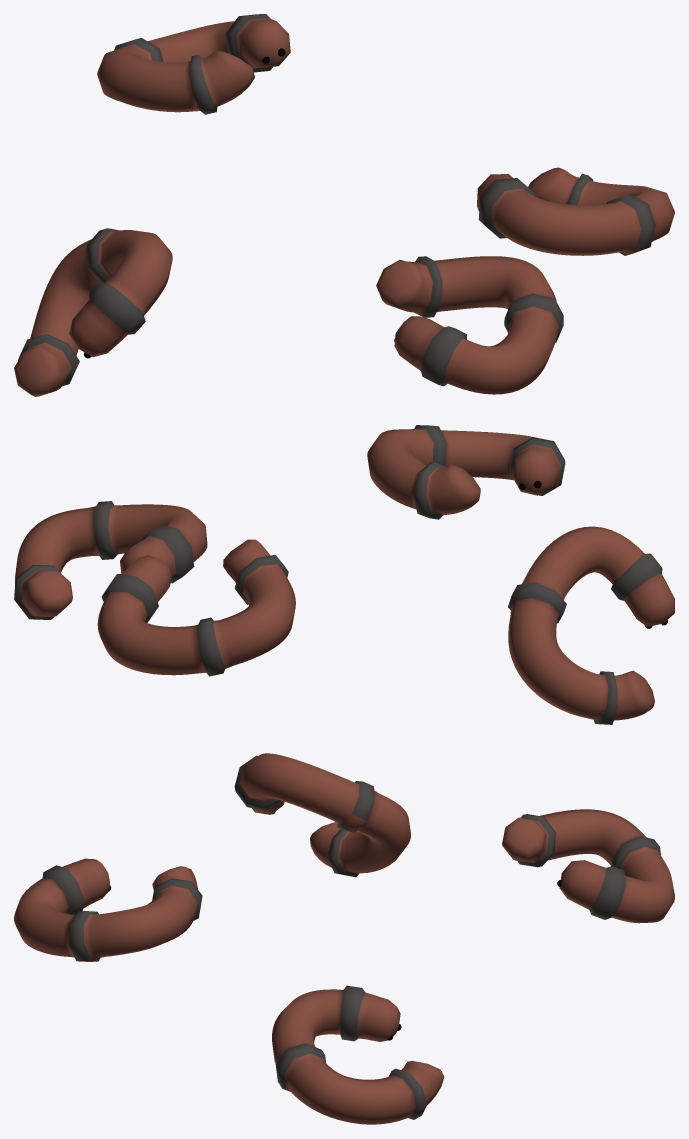
Rendered from Worms.fbx.
The picture shows the model from 3 angles, top to bottom: view 1: azimuth 30°, elevation 25°; view 2: azimuth 150°, elevation 25°; view 3: azimuth 270°, elevation 25°; orthographic projection. The views are drawn at different scales.
Visible parts, largest first — view 1: Worms; view 2: Worms; view 3: Worms.
Part boxes in pixels (bbox=[...]): Worms: bbox=[14, 14, 674, 396]; Worms: bbox=[14, 425, 674, 724]; Worms: bbox=[14, 753, 674, 1124].
Size of the model in its own units: 150 by 43.8 by 149.
